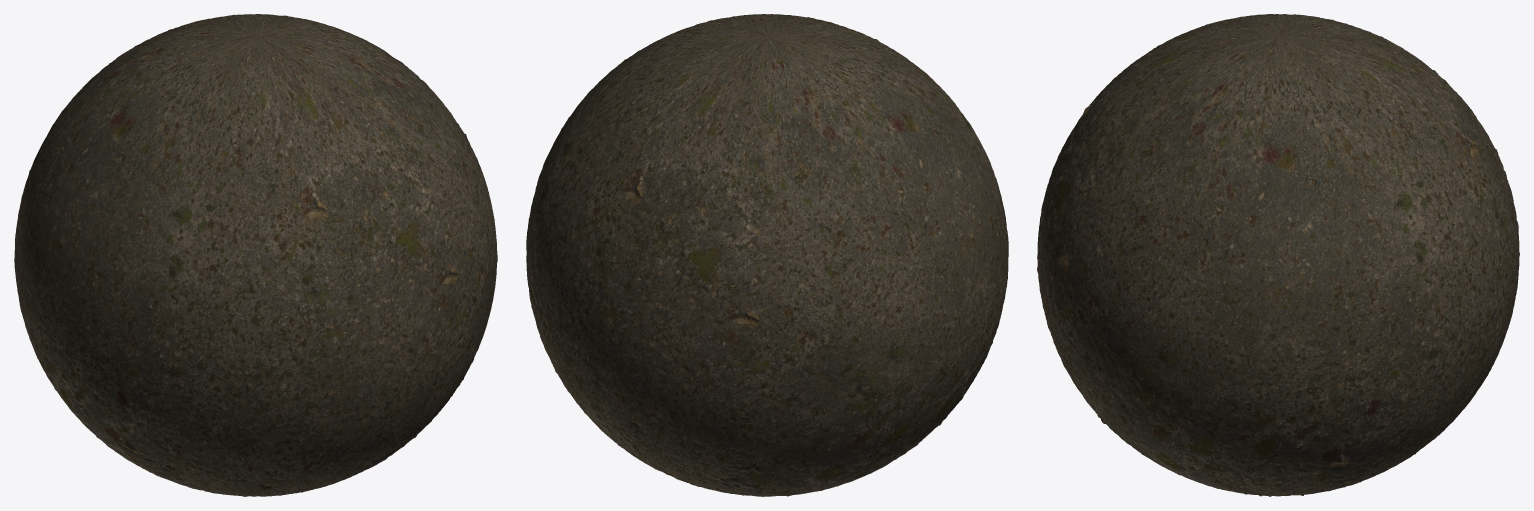
The model's file is coast_sand_05_1k.gltf.
The picture shows the model from 3 angles, left to right: view 1: azimuth 30°, elevation 25°; view 2: azimuth 150°, elevation 25°; view 3: azimuth 270°, elevation 25°; orthographic projection.
Parts seen in each view (by area): view 1: sphere_gltf; view 2: sphere_gltf; view 3: sphere_gltf.
Part boxes in pixels (x1=…): sphere_gltf: x1=14, y1=14, x2=497, y2=496; sphere_gltf: x1=526, y1=14, x2=1008, y2=496; sphere_gltf: x1=1037, y1=14, x2=1519, y2=496.
Size of the model in its own units: 25.25 by 25.25 by 25.27.
Materials: 1 (1 with a texture image).
